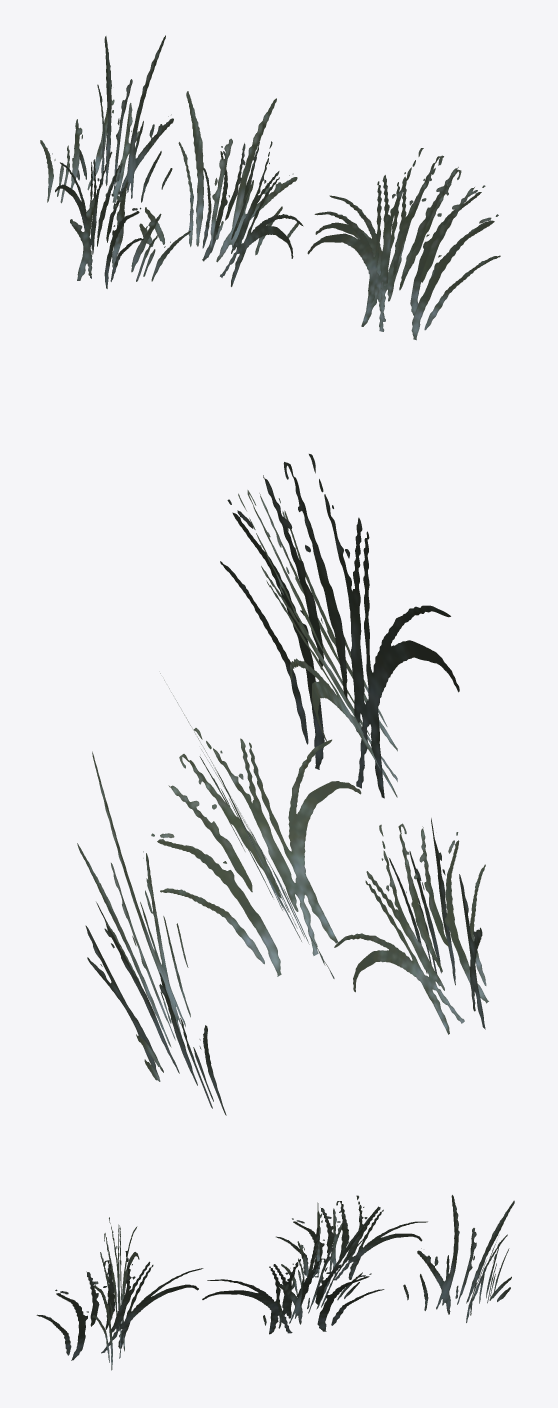
Rendered from bfg_snow_cao_02.fbx.
3 renders of one model, top to bottom at view 1: azimuth 30°, elevation 25°; view 2: azimuth 150°, elevation 25°; view 3: azimuth 270°, elevation 25°, orthographic. The views are drawn at different scales.
Parts seen in each view (by area): view 1: bfg_snow_cao002; view 2: bfg_snow_cao002; view 3: bfg_snow_cao002.
Boxes of the visible parts, box(x1,y1,x2,y2) form: bfg_snow_cao002: box(40, 35, 500, 340); bfg_snow_cao002: box(77, 454, 488, 1115); bfg_snow_cao002: box(36, 1195, 514, 1370).
Size of the model in its own units: 500 by 274 by 756.
